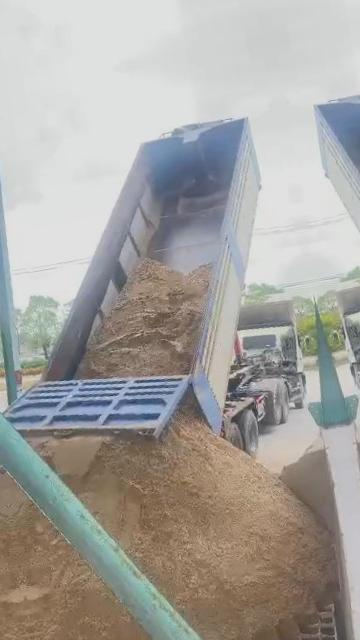sand: (38, 406, 334, 640), (10, 502, 172, 640), (77, 259, 210, 378), (280, 437, 335, 533), (4, 474, 28, 518)
